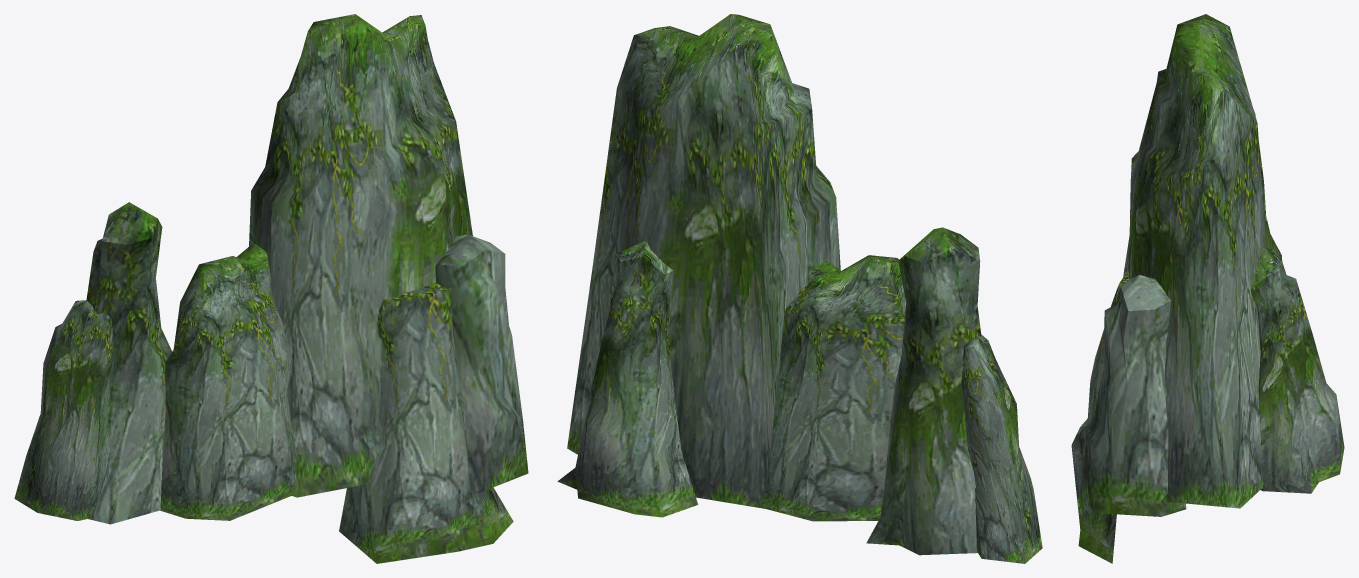
File: environment_stone_zhucheng_001_a.FBX
3 views of the same model, side by side, from view 1: azimuth 30°, elevation 25°; view 2: azimuth 150°, elevation 25°; view 3: azimuth 270°, elevation 25° (orthographic). The views are drawn at different scales.
Visible parts, largest first — view 1: environment_stone_zhucheng_001_a; view 2: environment_stone_zhucheng_001_a; view 3: environment_stone_zhucheng_001_a.
Boxes of the visible parts, x1,y1,x2,y2 form: environment_stone_zhucheng_001_a: [14, 14, 528, 563]; environment_stone_zhucheng_001_a: [557, 14, 1042, 563]; environment_stone_zhucheng_001_a: [1071, 14, 1344, 563].
Bounding box in the file's own units: 1246 × 1339 × 683.
Materials: 1 (1 with a texture image).
